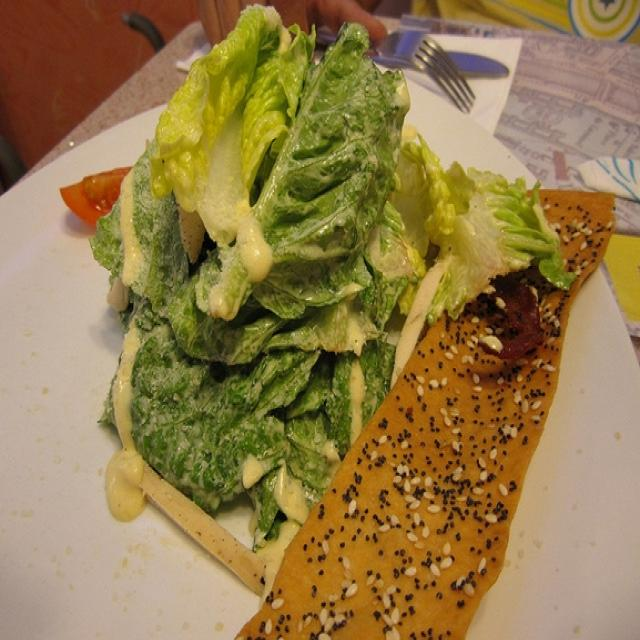蔬菜料理: (25, 13, 589, 602)
